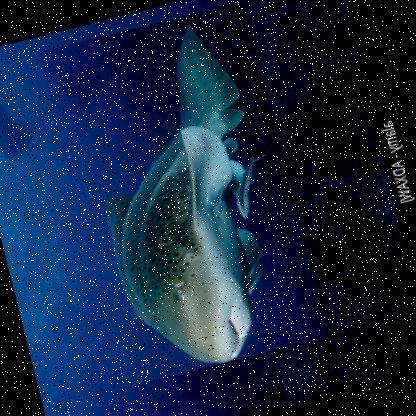zebra_shark: (39, 0, 329, 388)
